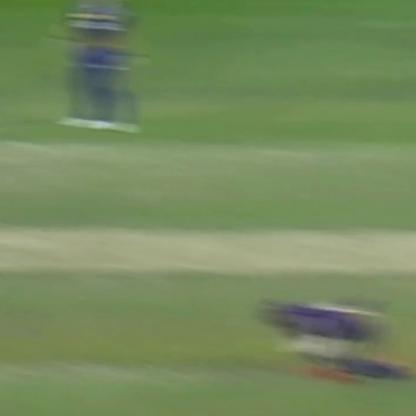pitch: (0, 209, 416, 295)
